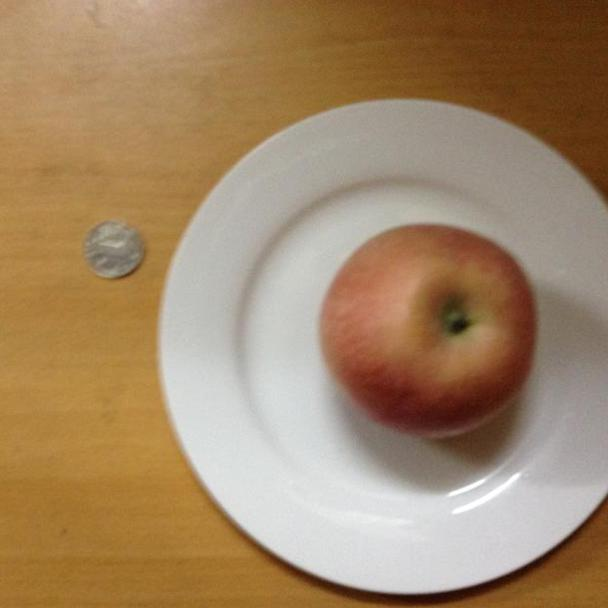apple: (318, 224, 539, 441)
